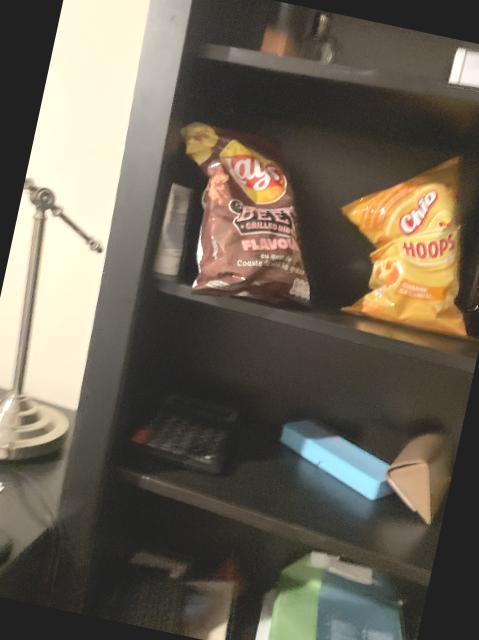Chio Hula Hoops Cheese 70g: (325, 134, 479, 341)
Lays Beef Grilled Ribs 125g: (148, 118, 348, 318)
